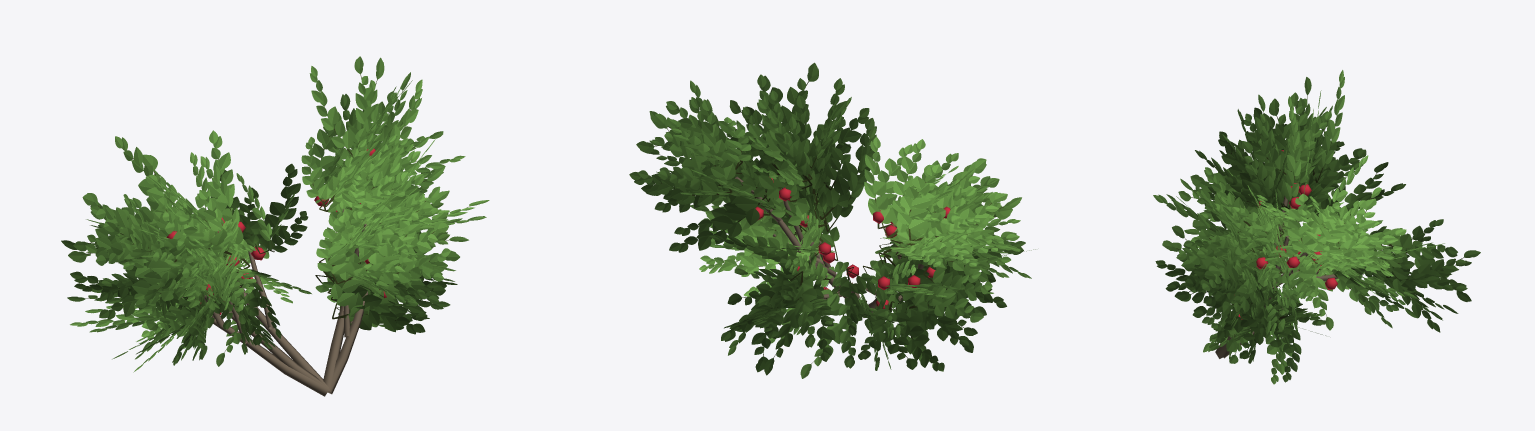
File: berry_bush_1.glb
3 renders of one model, left to right at view 1: azimuth 30°, elevation 25°; view 2: azimuth 150°, elevation 25°; view 3: azimuth 270°, elevation 25°, orthographic. The views are drawn at different scales.
Visible parts, largest first — view 1: berry_bush_1; view 2: berry_bush_1; view 3: berry_bush_1.
Part boxes in pixels (x1,y1,x2,y2): berry_bush_1: [61, 56, 489, 396]; berry_bush_1: [629, 62, 1035, 378]; berry_bush_1: [1153, 70, 1480, 384].
Size of the model in its own units: 2.86 by 1.73 by 2.37.
3 materials, 1 textured.
